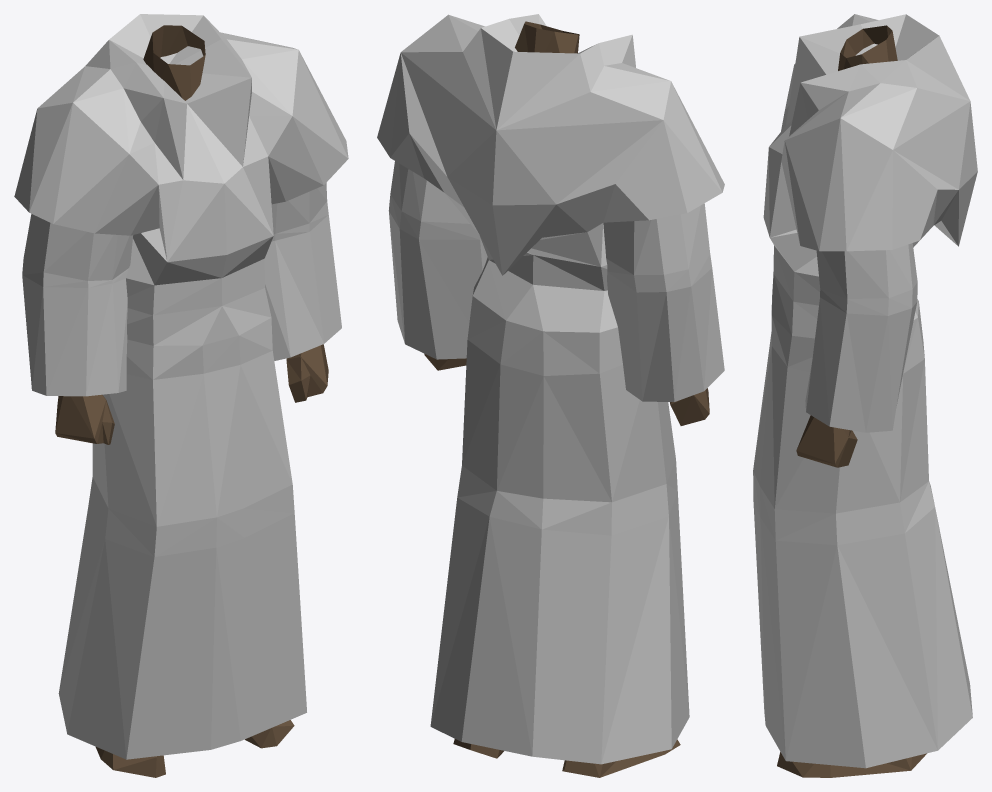
The model's file is ARMOR_KDW_H.OBJ.
3 renders of one model, left to right at view 1: azimuth 30°, elevation 25°; view 2: azimuth 150°, elevation 25°; view 3: azimuth 270°, elevation 25°, orthographic. The views are drawn at different scales.
Parts seen in each view (by area): view 1: ARMOR_KDW_H; view 2: ARMOR_KDW_H; view 3: ARMOR_KDW_H.
Part boxes in pixels (bbox=[...]): ARMOR_KDW_H: bbox=[14, 14, 348, 777]; ARMOR_KDW_H: bbox=[377, 14, 724, 777]; ARMOR_KDW_H: bbox=[753, 14, 977, 777].
Size of the model in its own units: 0.7953 by 1.68 by 0.4802.
